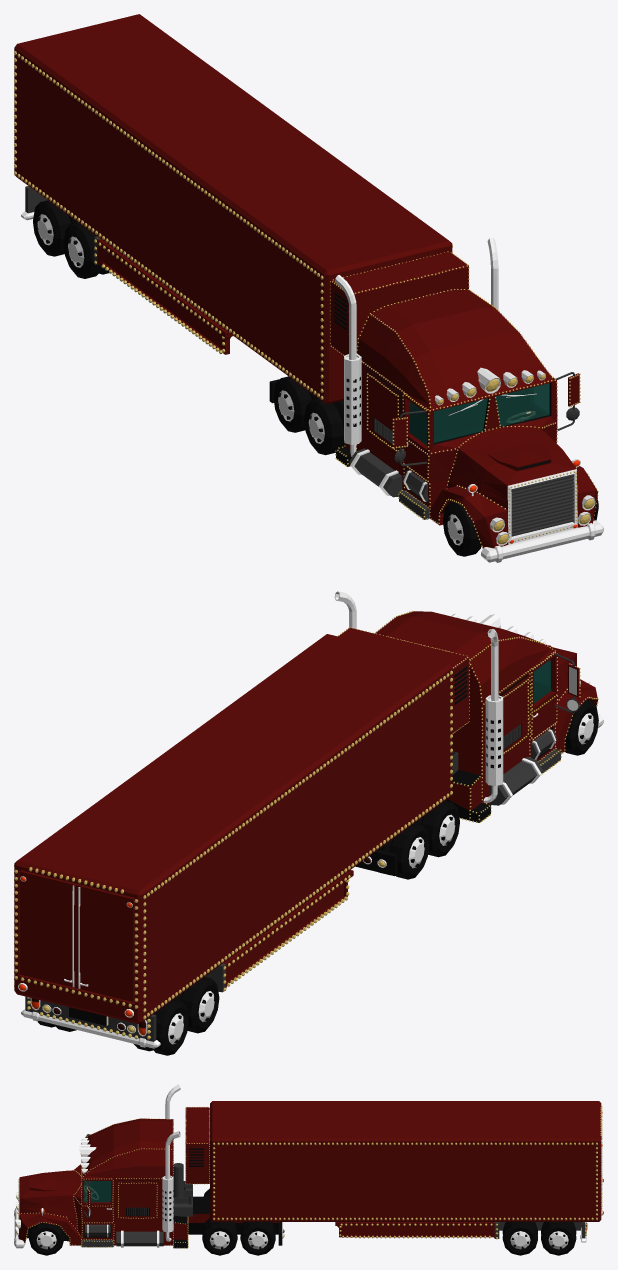
File: ChristmasTruck.FBX
The picture shows the model from 3 angles, top to bottom: view 1: azimuth 30°, elevation 25°; view 2: azimuth 150°, elevation 25°; view 3: azimuth 270°, elevation 25°; orthographic projection. The views are drawn at different scales.
Visible parts, largest first — view 1: trailer, ChristmasTruck, cooler, christmasLights-tr, interieur, grill, christmasLights, wheels_m1_r, wheels_m2_r, wheels_b2_r, wheels_b1_r, lights (+3 smaller); view 2: trailer, ChristmasTruck, christmasLights-tr, cooler, wheels_m2_r, wheels_b1_r, wheels_m1_r, wheels_b2_r, christmasLights, wheel_f_r, mirrors; view 3: trailer, ChristmasTruck, christmasLights-tr, cooler, wheels_m1_l, wheels_m2_l, wheels_b2_l, wheels_b1_l, christmasLights, wheel_f_l, interieur, lights.
Boxes of the visible parts, bbox=[...] form: trailer: bbox=[14, 14, 452, 404]; ChristmasTruck: bbox=[269, 237, 603, 562]; cooler: bbox=[330, 252, 468, 355]; christmasLights-tr: bbox=[14, 51, 469, 399]; interieur: bbox=[409, 383, 549, 444]; grill: bbox=[511, 474, 573, 536]; christmasLights: bbox=[335, 289, 598, 546]; wheels_m1_r: bbox=[304, 399, 344, 455]; wheels_m2_r: bbox=[273, 376, 318, 432]; wheels_b2_r: bbox=[33, 200, 77, 256]; wheels_b1_r: bbox=[63, 222, 108, 278]; lights: bbox=[435, 367, 595, 545]; trailer: bbox=[14, 634, 452, 1048]; ChristmasTruck: bbox=[334, 591, 603, 876]; christmasLights-tr: bbox=[14, 627, 469, 1039]; cooler: bbox=[338, 628, 468, 733]; wheels_m2_r: bbox=[378, 823, 429, 879]; wheels_b1_r: bbox=[174, 977, 219, 1033]; wheels_m1_r: bbox=[415, 801, 459, 857]; wheels_b2_r: bbox=[133, 999, 188, 1055]; christmasLights: bbox=[374, 611, 598, 822]; wheel_f_r: bbox=[565, 700, 598, 755]; mirrors: bbox=[554, 653, 579, 713]; trailer: bbox=[210, 1101, 602, 1242]; ChristmasTruck: bbox=[14, 1084, 282, 1248]; christmasLights-tr: bbox=[185, 1106, 602, 1239]; cooler: bbox=[185, 1107, 209, 1183]; wheels_m1_l: bbox=[202, 1218, 237, 1255]; wheels_m2_l: bbox=[240, 1222, 275, 1255]; wheels_b2_l: bbox=[541, 1222, 576, 1255]; wheels_b1_l: bbox=[502, 1222, 537, 1255]; christmasLights: bbox=[18, 1118, 188, 1248]; wheel_f_l: bbox=[29, 1222, 64, 1255]; interieur: bbox=[83, 1181, 110, 1202]; lights: bbox=[15, 1138, 283, 1238].
Bounding box in the file's own units: 43.09 × 45.08 × 188.
